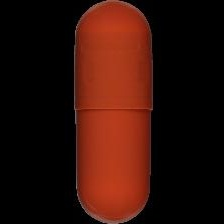0002-3251: (0, 0, 224, 224)
